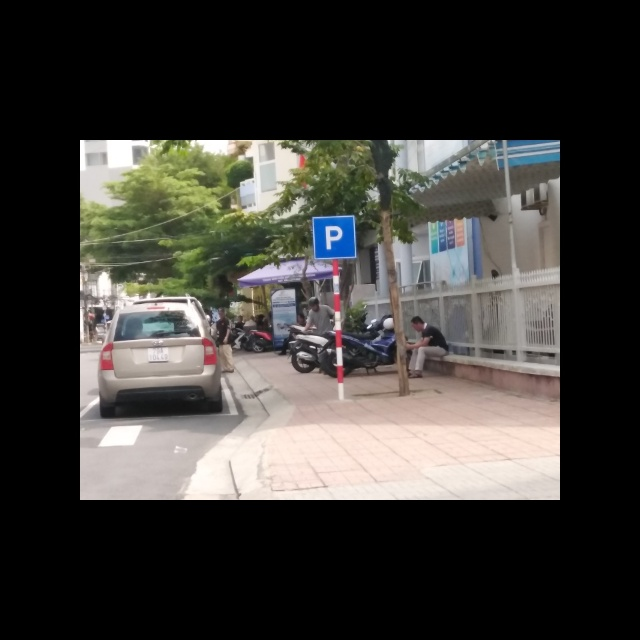Nơi đỗ xe: (312, 215, 358, 260)
